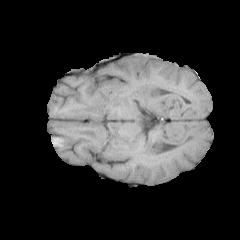glioma: (93, 80, 172, 125)
